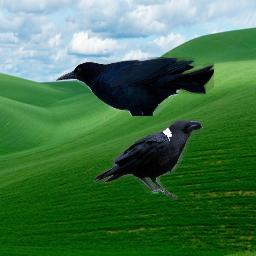Crow: (55, 57, 214, 116), (93, 120, 203, 199)
